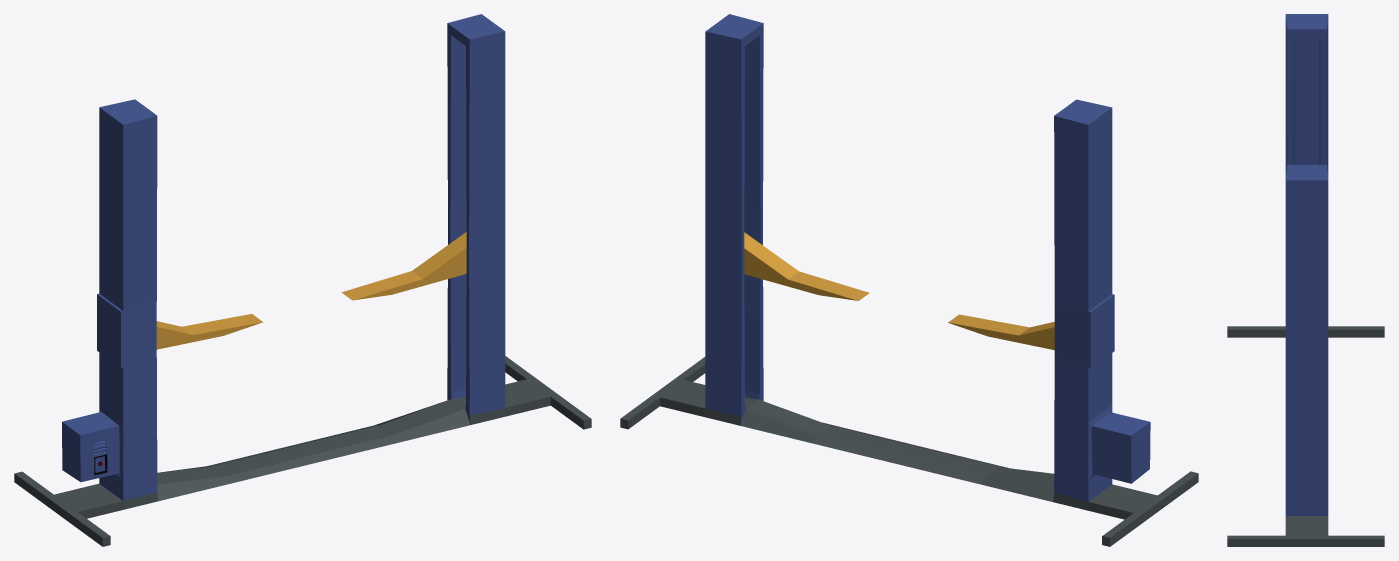
The model's file is Elevador.fbx.
3 views of the same model, side by side, from view 1: azimuth 30°, elevation 25°; view 2: azimuth 150°, elevation 25°; view 3: azimuth 270°, elevation 25° (orthographic). The views are drawn at different scales.
Visible parts, largest first — view 1: ElevadorAuto; view 2: ElevadorAuto; view 3: ElevadorAuto.
Boxes of the visible parts, x1,y1,x2,y2 form: ElevadorAuto: [14, 14, 591, 546]; ElevadorAuto: [620, 14, 1198, 546]; ElevadorAuto: [1227, 14, 1384, 546].
Bounding box in the file's own units: 178 × 134 × 55.83.
